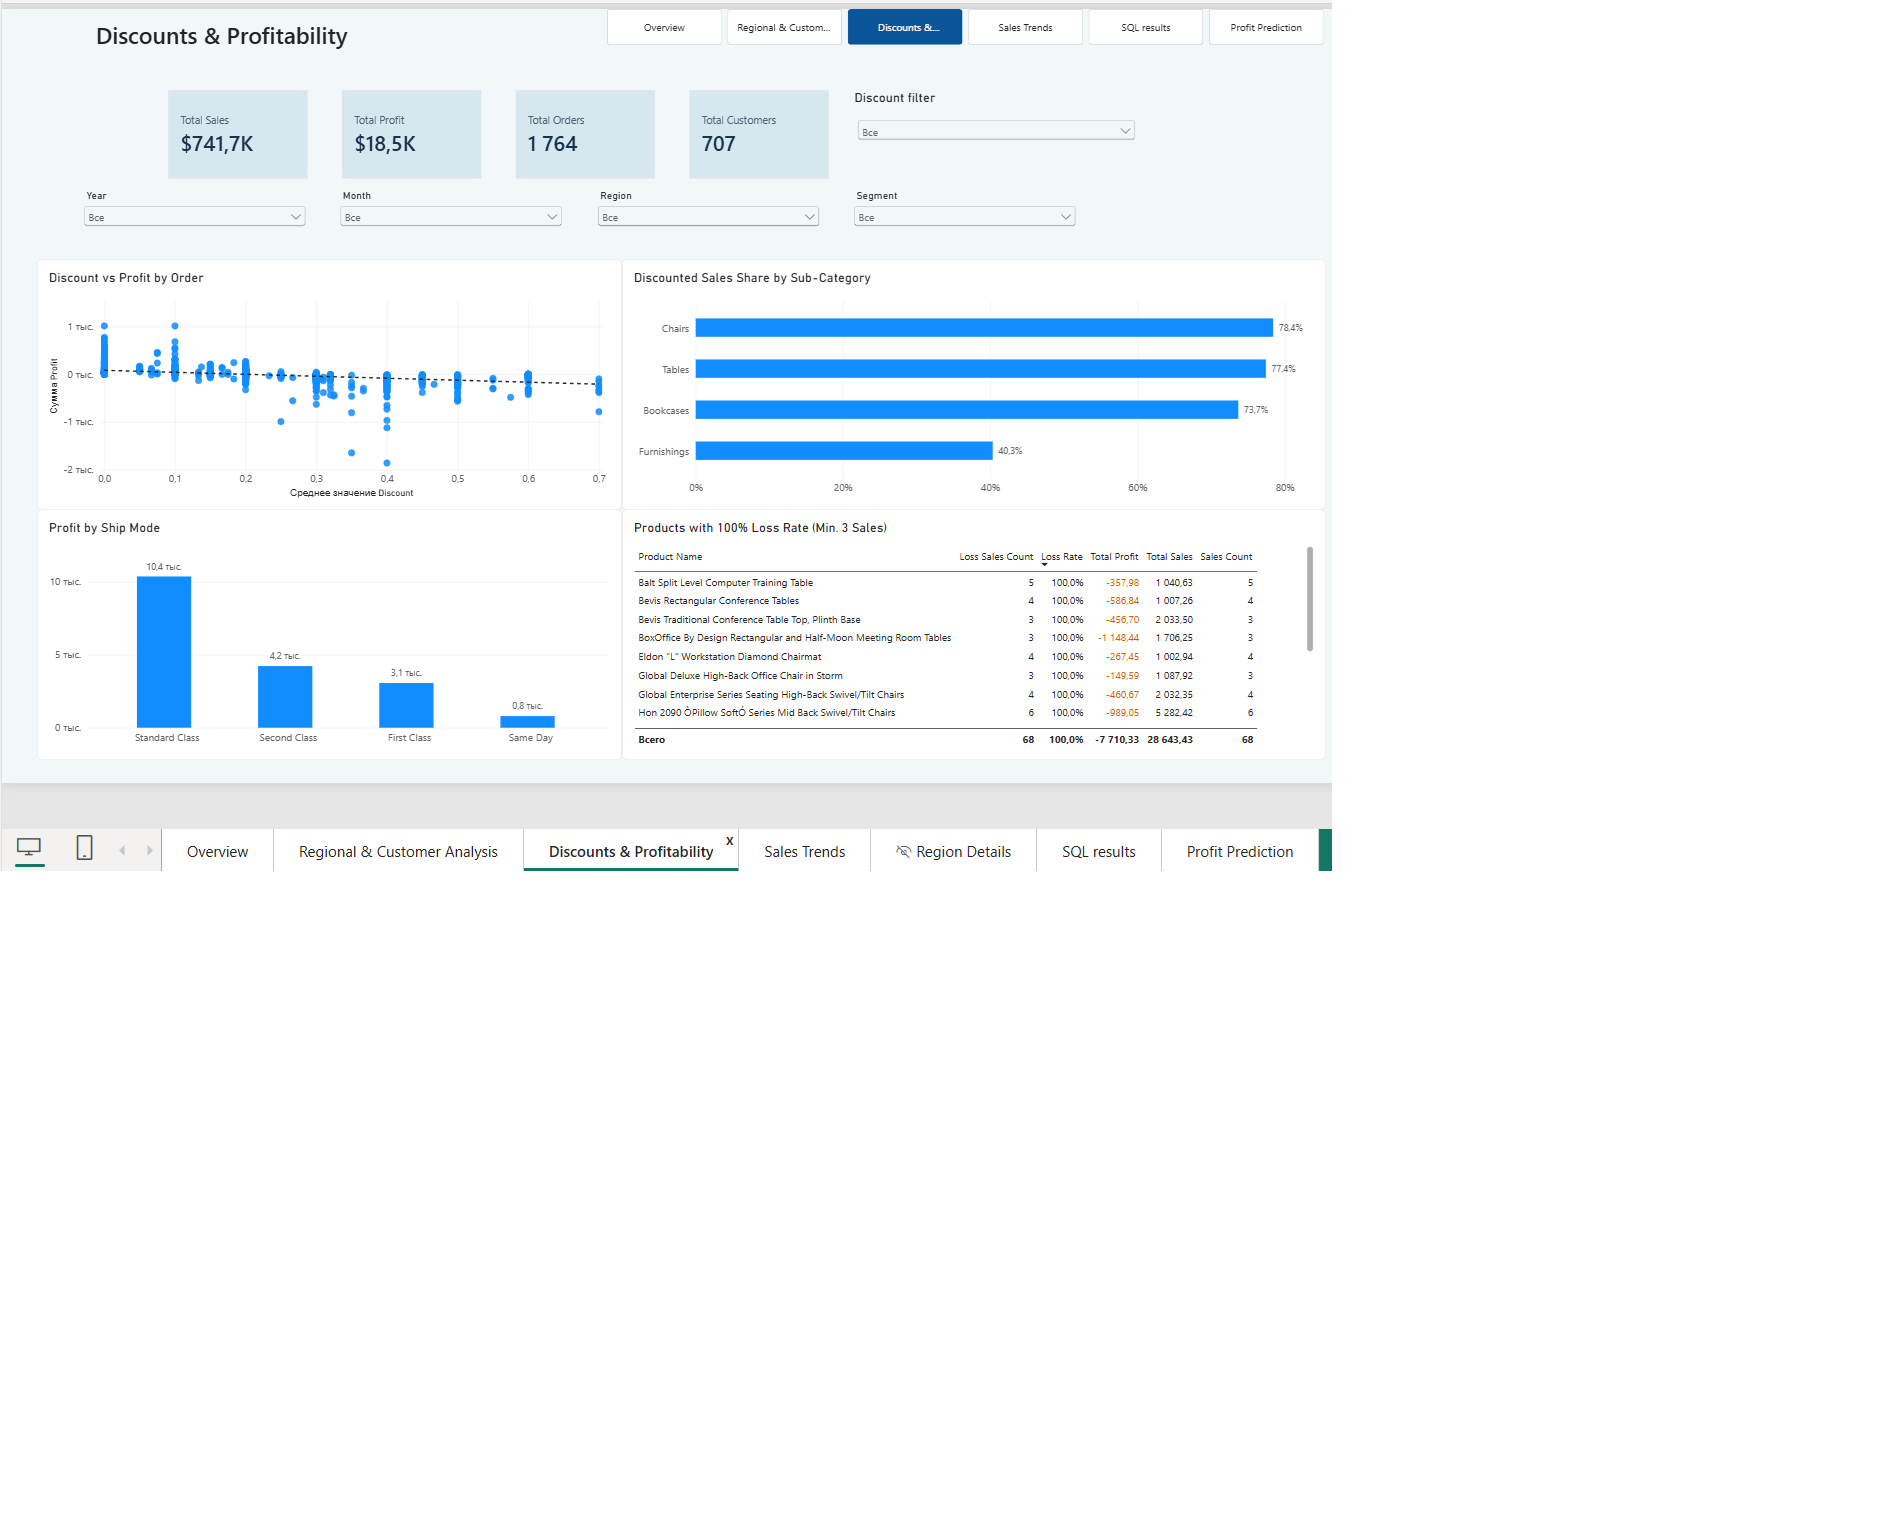

The page's visual inventory and layout, read from the dashboard file:
{"tool":"powerbi","page":{"name":"Discounts & Profitability","canvas":[1920,1080],"ordinal":2},"visuals":[{"type":"textbox","box":[112,14,556,48],"z":0},{"type":"cardVisual","fields":{"Data":["sales.Total Sales KPI"]},"box":[232.5,114,194.5,123],"z":1000},{"type":"cardVisual","fields":{"Data":["sales.Total Profit KPI"]},"box":[474.7,114,194.5,123],"z":2000},{"type":"cardVisual","fields":{"Data":["sales.Total Orders KPI"]},"box":[716.9,114,194.5,123],"z":3000},{"type":"cardVisual","fields":{"Data":["sales.Total Customers KPI"]},"box":[959.1,114,194.5,123],"z":4000},{"type":"slicer","fields":{"Values":["Calendar.Year"]},"box":[110,252,318.3,76.7],"z":5000},{"type":"slicer","fields":{"Values":["customers.Region"]},"box":[826,252,318.3,76.7],"z":6000},{"type":"slicer","fields":{"Values":["customers.Segment"]},"box":[1184,252,318.3,76.7],"z":7000},{"type":"slicer","fields":{"Values":["Calendar.Month"]},"box":[468,252,318.3,76.7],"z":8000},{"type":"scatterChart","title":"Discount vs Profit by Order","fields":{"Category":["sales.Order ID"],"X":["Avg(sales.Discount)"],"Y":["Sum(sales.Profit)"]},"box":[48.3,348.3,816,350],"z":9000},{"type":"clusteredColumnChart","title":"Profit by Ship Mode","fields":{"Category":["orders.Ship Mode"],"Y":["sales.Total Profit"]},"box":[48.3,698.3,816,350],"z":10000},{"type":"clusteredBarChart","title":"Discounted Sales Share by Sub-Category","fields":{"Category":["products.Sub-Category"],"Y":["sales.Discounted Sales Share"]},"box":[865,348.3,981.7,350],"z":11000},{"type":"tableEx","title":"Products with 100% Loss Rate (Min. 3 Sales)","fields":{"Values":["products.Product Name","sales.Loss Sales Count","sales.Loss Rate","sales.Total Profit","sales.Total Sales","sales.Sales Count"]},"box":[865,698.3,981.7,350],"z":12000},{"type":"slicer","title":"Discount filter","fields":{"Values":["sales.Discount Flag"]},"box":[1190,114,396,122],"z":13000},{"type":"pageNavigator","box":[844,0,1000,50],"z":14000}]}

Visuals, with their boxes on the page's 1920x1080 design canvas (x1, y1, x2, y2). These are canvas units, not pixel positions in the 1887x1534 screenshot, which may show the page scaled, cropped or inside an application window:
textbox: locate(112, 14, 668, 62)
cardVisual - sales.Total Sales KPI: locate(232, 114, 427, 237)
cardVisual - sales.Total Profit KPI: locate(475, 114, 669, 237)
cardVisual - sales.Total Orders KPI: locate(717, 114, 911, 237)
cardVisual - sales.Total Customers KPI: locate(959, 114, 1154, 237)
slicer - Calendar.Year: locate(110, 252, 428, 329)
slicer - customers.Region: locate(826, 252, 1144, 329)
slicer - customers.Segment: locate(1184, 252, 1502, 329)
slicer - Calendar.Month: locate(468, 252, 786, 329)
"Discount vs Profit by Order" scatterChart: locate(48, 348, 864, 698)
"Profit by Ship Mode" clusteredColumnChart: locate(48, 698, 864, 1048)
"Discounted Sales Share by Sub-Category" clusteredBarChart: locate(865, 348, 1847, 698)
"Products with 100% Loss Rate (Min. 3 Sales)" tableEx: locate(865, 698, 1847, 1048)
"Discount filter" slicer: locate(1190, 114, 1586, 236)
pageNavigator: locate(844, 0, 1844, 50)
